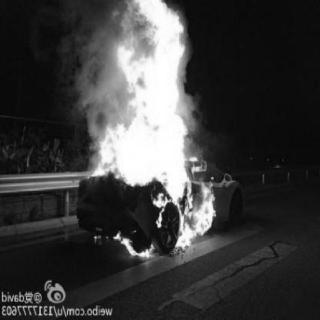Fire: (78, 1, 218, 261)
